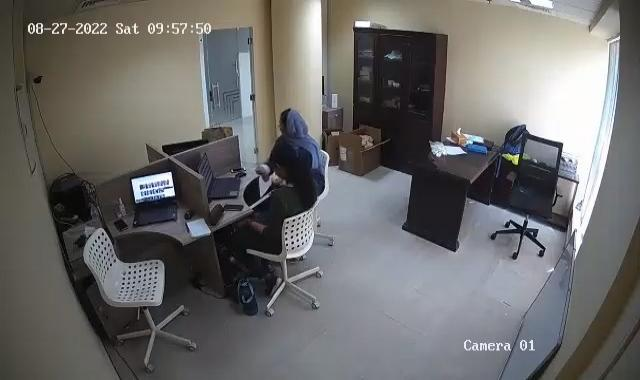no_hairnet: (269, 142, 300, 175), (279, 103, 305, 136)
